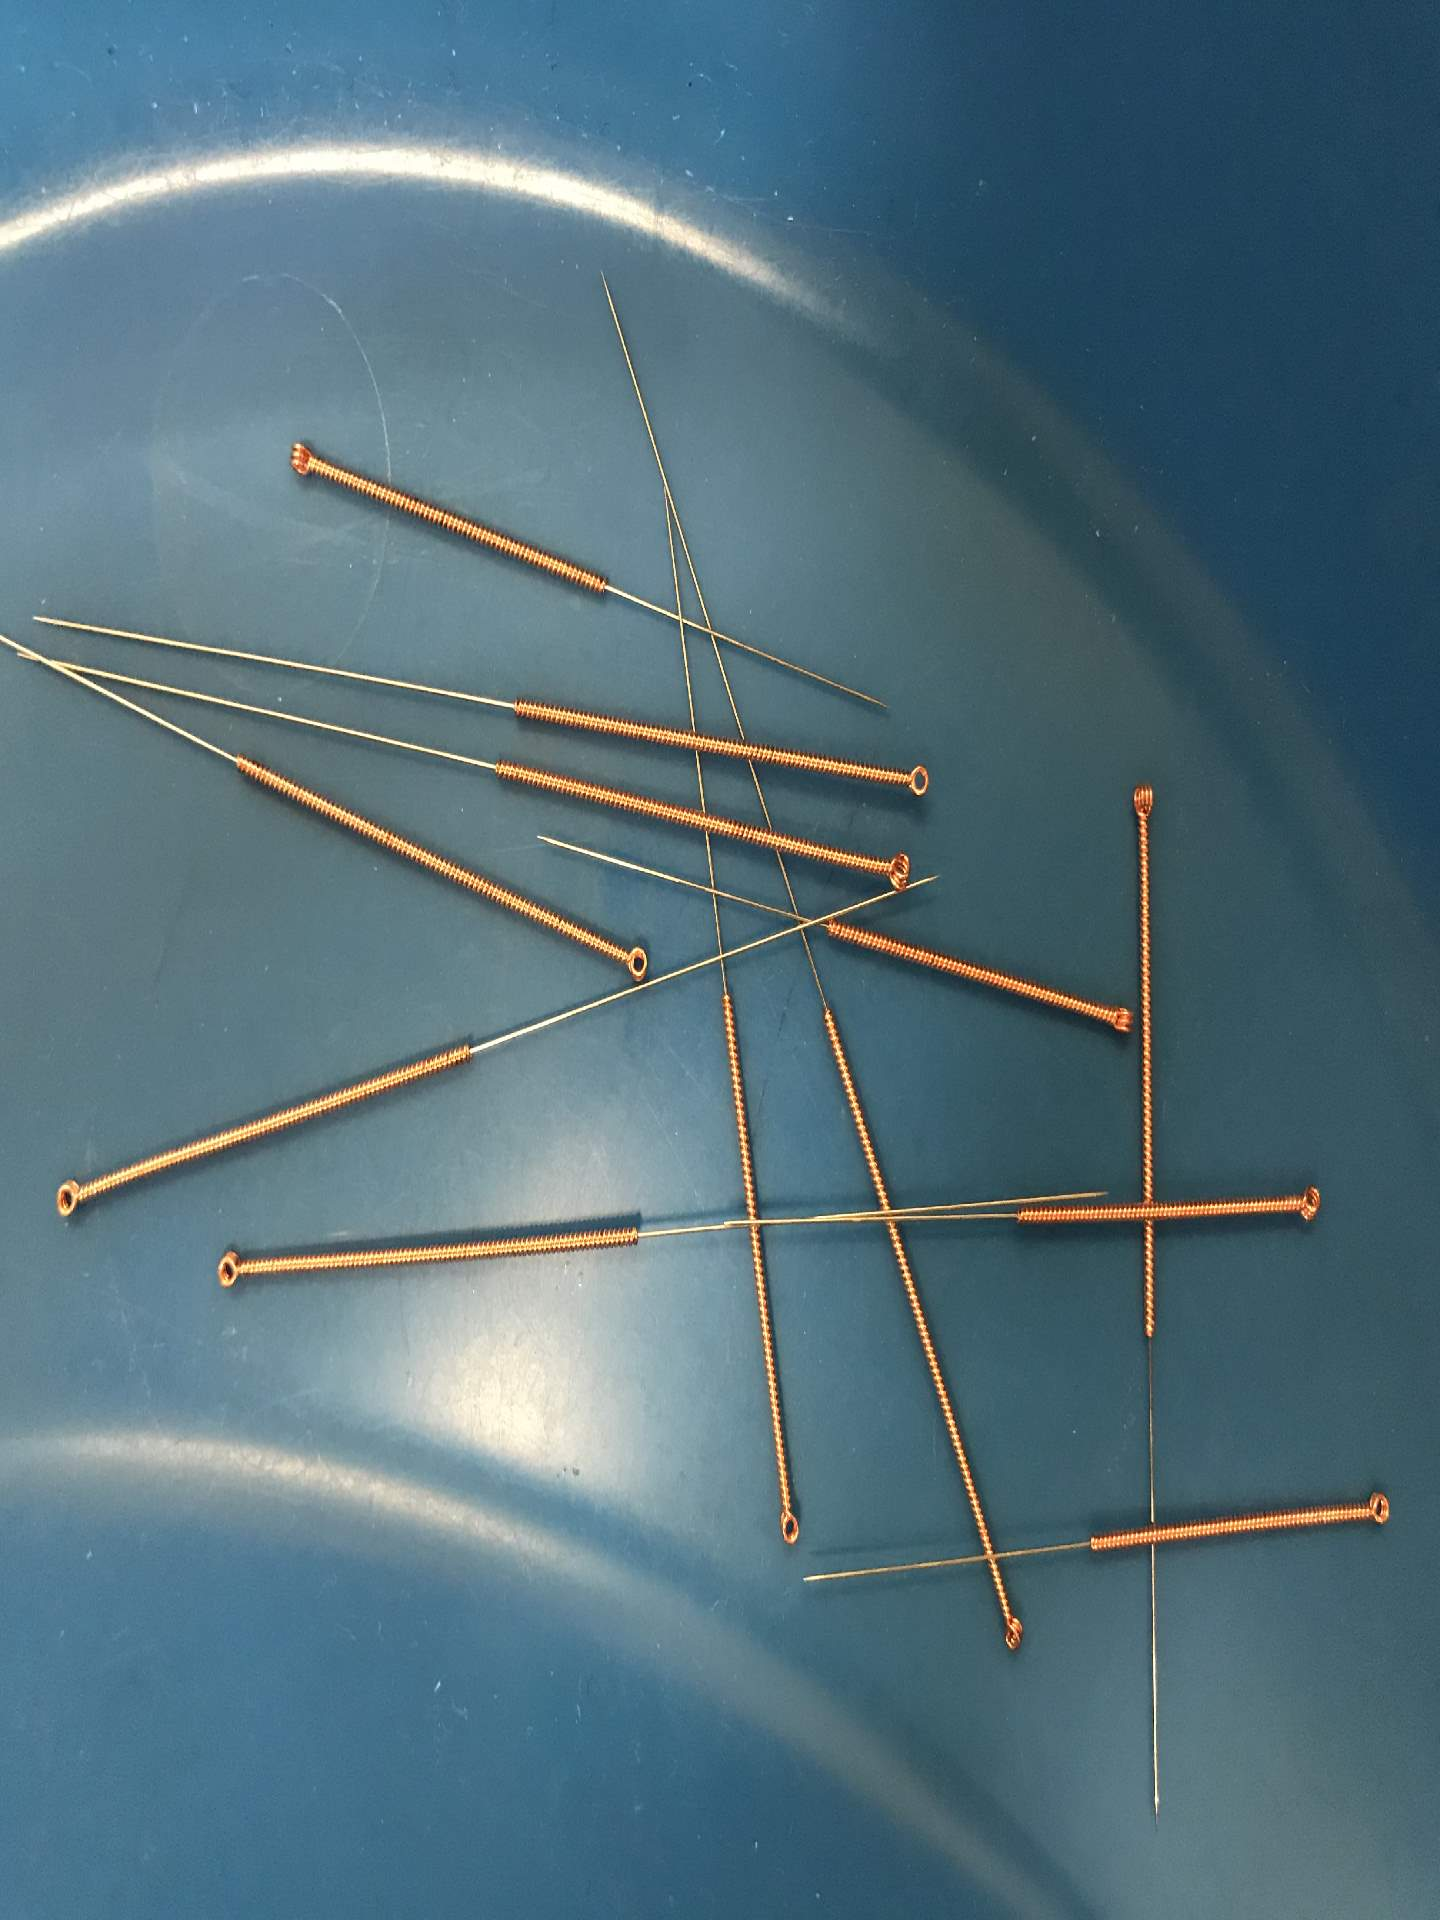needle: (39, 1164, 97, 1235), (268, 426, 330, 490), (861, 838, 924, 900), (198, 1237, 259, 1302), (883, 748, 941, 813), (985, 1595, 1038, 1665), (1345, 1476, 1401, 1541), (1118, 766, 1168, 835), (605, 934, 663, 992), (1280, 1178, 1336, 1234), (765, 1491, 811, 1556), (1088, 993, 1141, 1048)
